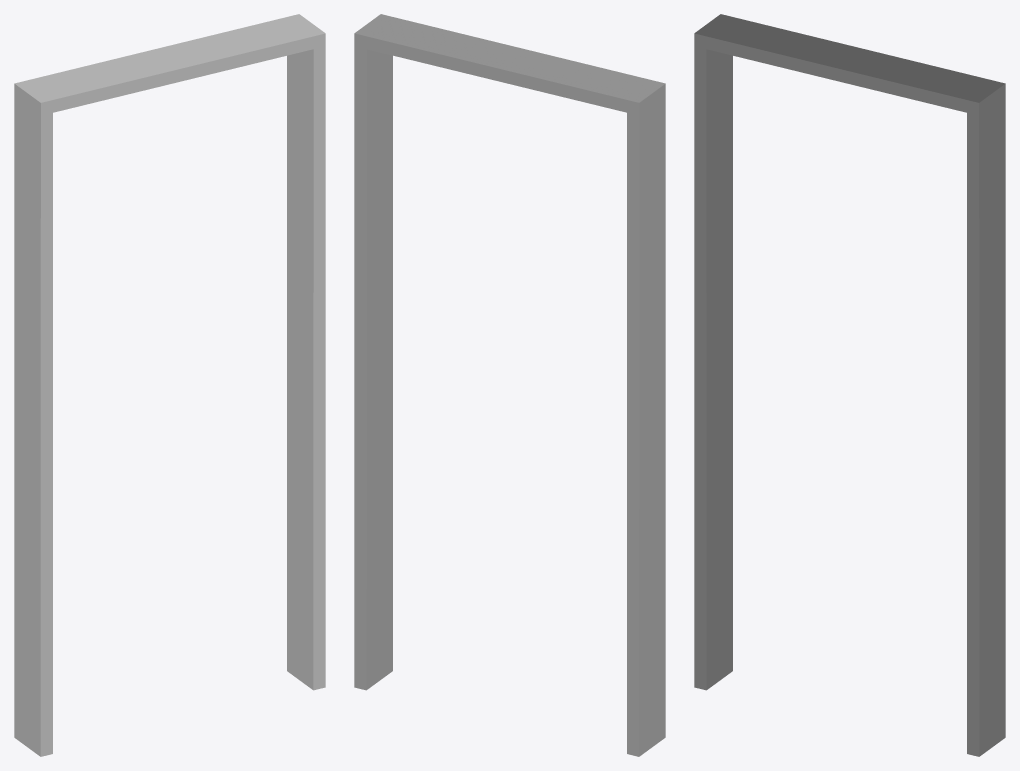
File: FP322:StandardDoorFrame1_016_eb0d644c.obj
3 renders of one model, left to right at view 1: azimuth 30°, elevation 25°; view 2: azimuth 150°, elevation 25°; view 3: azimuth 330°, elevation 25°, orthographic.
Parts seen in each view (by area): view 1: FP322:StandardDoorFrame1.016_eb0d644c; view 2: FP322:StandardDoorFrame1.016_eb0d644c; view 3: FP322:StandardDoorFrame1.016_eb0d644c.
Boxes of the visible parts, left/top/right/bottom form: FP322:StandardDoorFrame1.016_eb0d644c: left=14, top=14, right=325, bottom=756; FP322:StandardDoorFrame1.016_eb0d644c: left=354, top=14, right=665, bottom=756; FP322:StandardDoorFrame1.016_eb0d644c: left=694, top=14, right=1005, bottom=756.
Size of the model in its own units: 0.93 by 2.04 by 0.1507.
